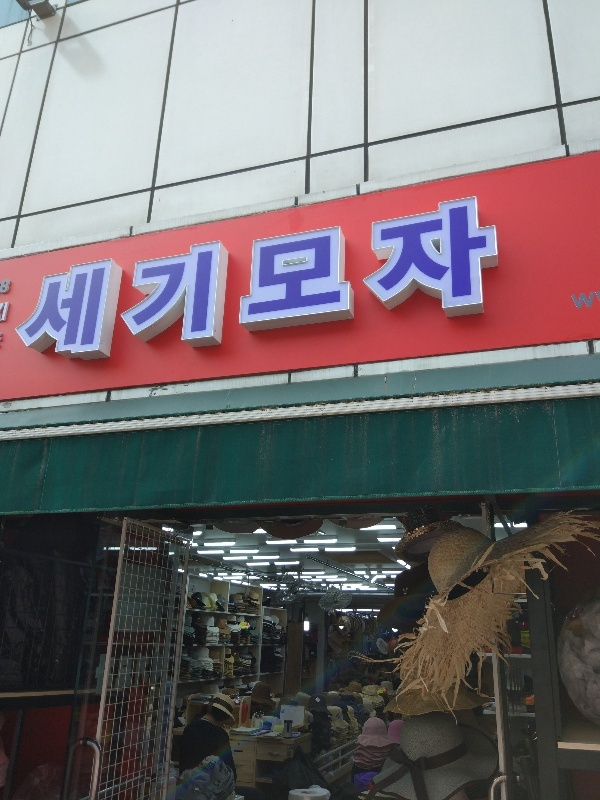text: (49, 189, 64, 364), (65, 189, 80, 364), (81, 189, 96, 364), (97, 189, 112, 364), (113, 189, 128, 364), (129, 189, 144, 364), (145, 189, 160, 364), (161, 189, 176, 364), (177, 189, 192, 364), (193, 189, 208, 364), (209, 189, 224, 364), (225, 189, 240, 364), (241, 189, 256, 364), (257, 189, 272, 364), (273, 189, 288, 364), (289, 189, 304, 364), (305, 189, 320, 364), (321, 189, 336, 364), (337, 189, 352, 364), (353, 189, 368, 364), (369, 189, 384, 364), (385, 189, 400, 364), (401, 189, 416, 364), (417, 189, 432, 364), (433, 189, 448, 364), (449, 189, 464, 364), (465, 189, 480, 364), (481, 189, 496, 364), (38, 189, 48, 364), (497, 189, 500, 364), (577, 288, 592, 314), (1, 301, 16, 325), (1, 279, 16, 296), (569, 288, 576, 314), (593, 288, 595, 314)
